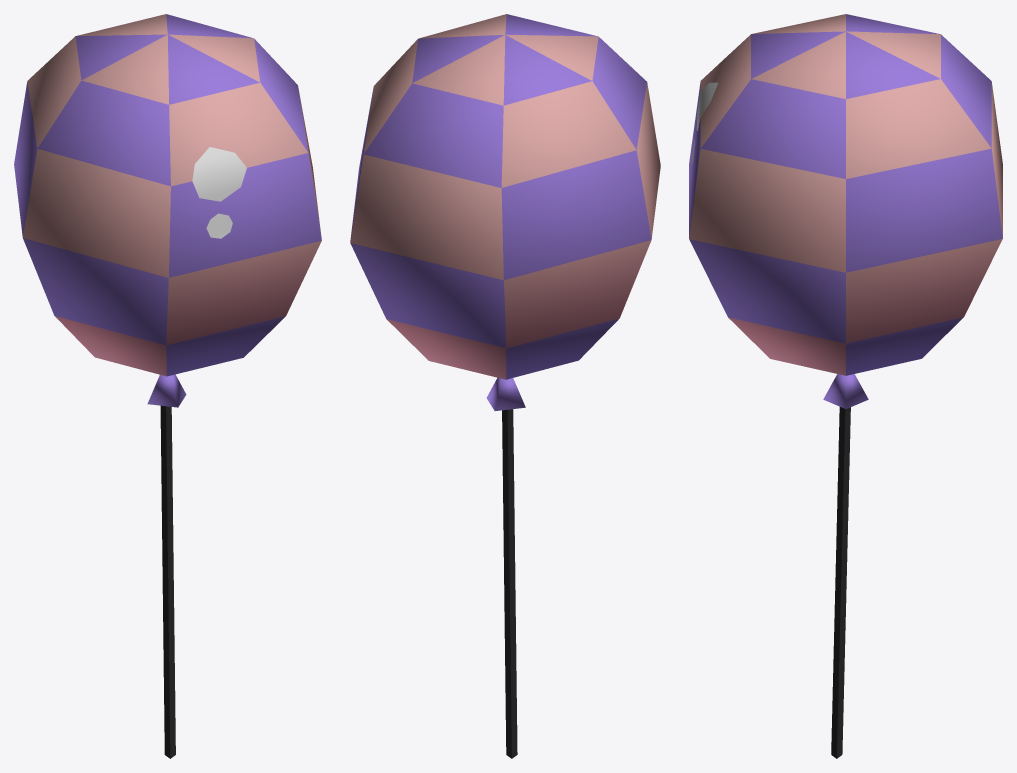
The model's file is purplePokadotBaloon.glb.
The picture shows the model from 3 angles, left to right: view 1: azimuth 30°, elevation 25°; view 2: azimuth 150°, elevation 25°; view 3: azimuth 270°, elevation 25°; orthographic projection.
Visible parts, largest first — view 1: purplePokadotBaloon; view 2: purplePokadotBaloon; view 3: purplePokadotBaloon.
Boxes of the visible parts, bbox=[...] form: purplePokadotBaloon: bbox=[14, 14, 321, 758]; purplePokadotBaloon: bbox=[350, 14, 660, 758]; purplePokadotBaloon: bbox=[689, 14, 1002, 758].
Size of the model in its own units: 0.5473 by 1.29 by 0.5071.
